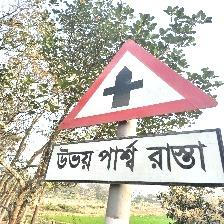Crossroad: (45, 32, 224, 190)
